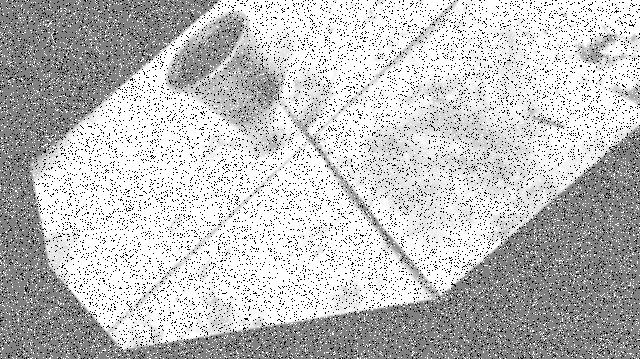pot: (164, 11, 282, 124)
